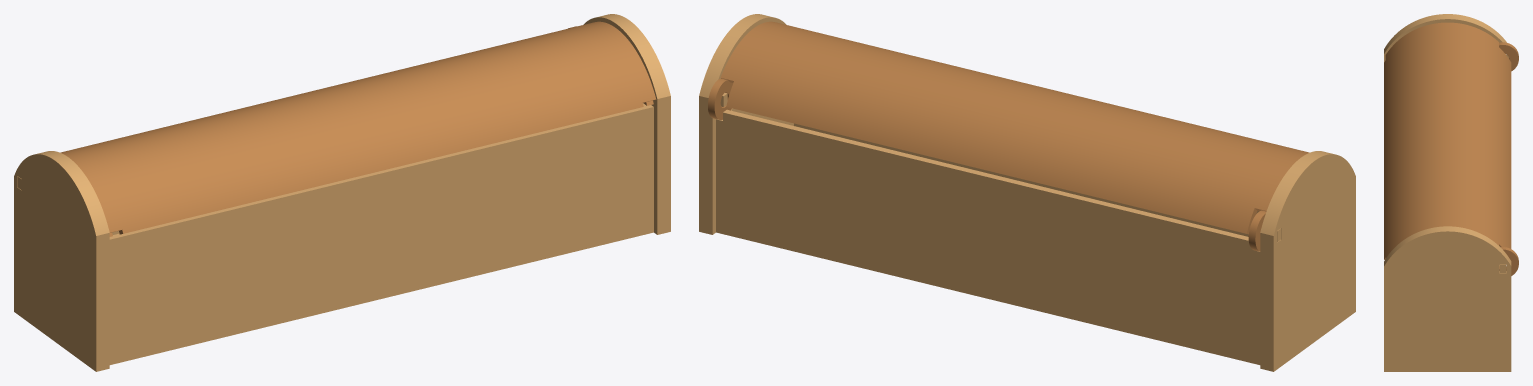
Rendered from MEB037_CLOSED_DESIGN_ONLY.glb.
The picture shows the model from 3 angles, left to right: view 1: azimuth 30°, elevation 25°; view 2: azimuth 150°, elevation 25°; view 3: azimuth 270°, elevation 25°; orthographic projection. The views are drawn at different scales.
Parts seen in each view (by area): view 1: BODY_FRONT, LID_SKIN_RADIAL_4MM, OUTER_FASCIA_L, FASCIA_HIDDEN_BACKER_R, BODY_FLOOR, FASCIA_HIDDEN_BACKER_L, OUTER_FASCIA_R; view 2: BODY_BACK, LID_SKIN_RADIAL_4MM, OUTER_FASCIA_L, FASCIA_HIDDEN_BACKER_R, BODY_FLOOR, FASCIA_HIDDEN_BACKER_L, OUTER_FASCIA_R, BODY_FRONT, LID_END_R, BODY_END_R; view 3: LID_SKIN_RADIAL_4MM, OUTER_FASCIA_R, FASCIA_HIDDEN_BACKER_L, FASCIA_HIDDEN_BACKER_R, OUTER_FASCIA_L, LID_END_L, LID_END_R.
Part boxes in pixels (bbox=[...]): BODY_FRONT: bbox=[109, 106, 653, 364]; LID_SKIN_RADIAL_4MM: bbox=[60, 21, 656, 234]; OUTER_FASCIA_L: bbox=[14, 152, 102, 371]; FASCIA_HIDDEN_BACKER_R: bbox=[583, 15, 663, 234]; BODY_FLOOR: bbox=[146, 243, 579, 355]; FASCIA_HIDDEN_BACKER_L: bbox=[43, 151, 109, 370]; OUTER_FASCIA_R: bbox=[604, 14, 670, 233]; BODY_BACK: bbox=[716, 109, 1260, 364]; LID_SKIN_RADIAL_4MM: bbox=[720, 21, 1309, 234]; OUTER_FASCIA_L: bbox=[1267, 152, 1355, 371]; FASCIA_HIDDEN_BACKER_R: bbox=[706, 15, 786, 234]; BODY_FLOOR: bbox=[790, 243, 1223, 355]; FASCIA_HIDDEN_BACKER_L: bbox=[1260, 151, 1326, 370]; OUTER_FASCIA_R: bbox=[699, 14, 765, 233]; BODY_FRONT: bbox=[794, 123, 1258, 236]; LID_END_R: bbox=[708, 78, 733, 119]; BODY_END_R: bbox=[716, 108, 793, 233]; LID_SKIN_RADIAL_4MM: bbox=[1384, 22, 1511, 259]; OUTER_FASCIA_R: bbox=[1384, 229, 1511, 371]; FASCIA_HIDDEN_BACKER_L: bbox=[1384, 16, 1508, 62]; FASCIA_HIDDEN_BACKER_R: bbox=[1384, 226, 1511, 263]; OUTER_FASCIA_L: bbox=[1384, 14, 1506, 51]; LID_END_L: bbox=[1499, 42, 1518, 71]; LID_END_R: bbox=[1499, 247, 1518, 275].
Size of the model in its own units: 340 by 102 by 89.05.
